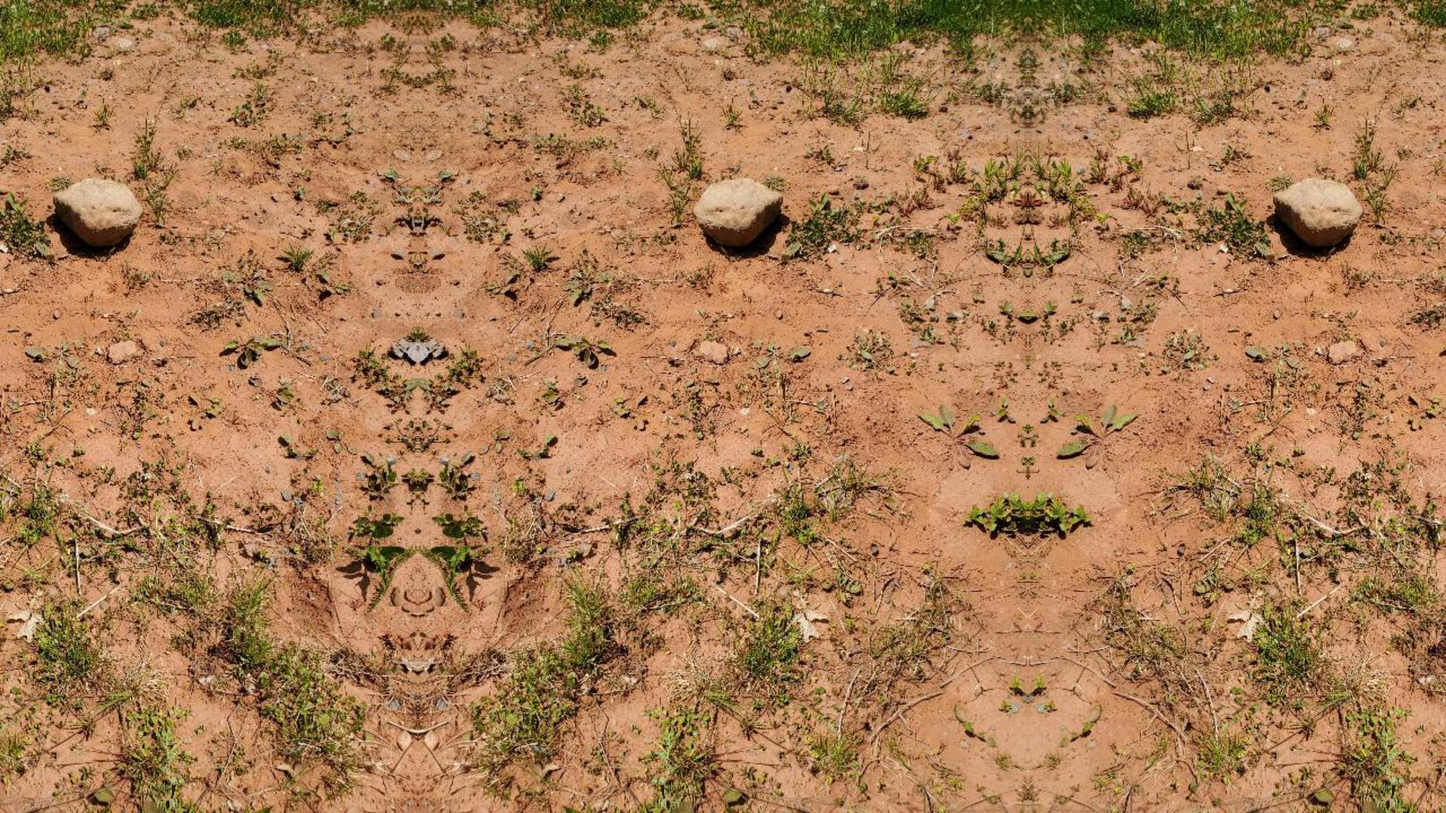rock: (54, 177, 142, 246), (694, 178, 782, 246), (1273, 178, 1361, 246)
